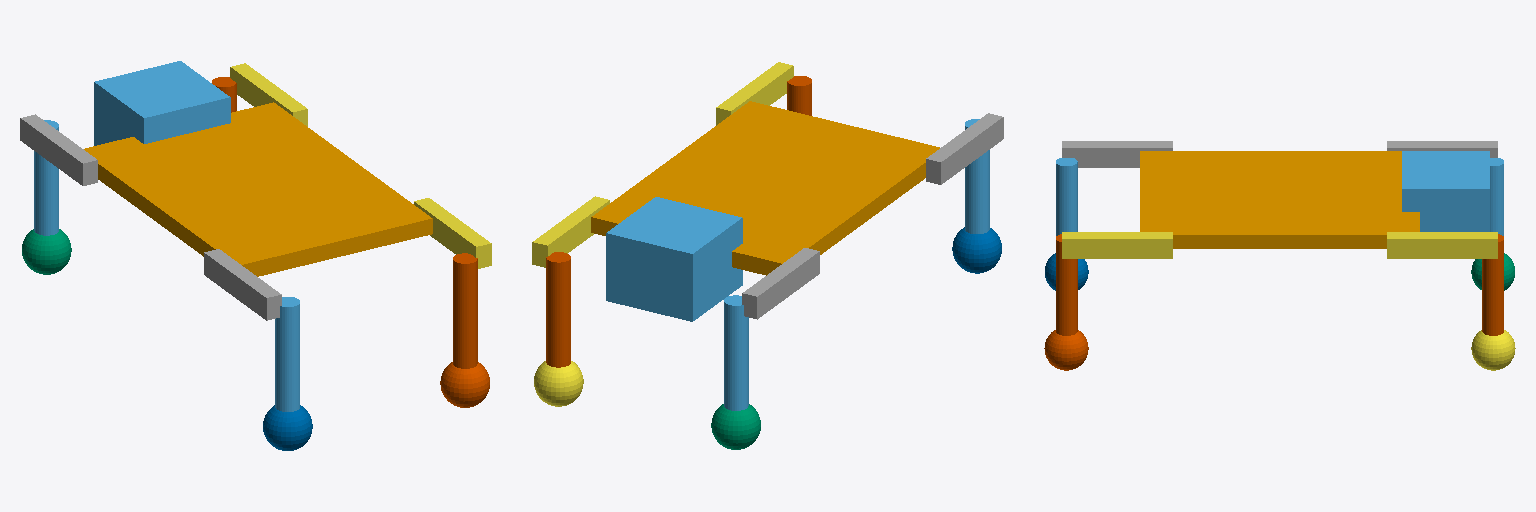
The robot description file, URDF, robot "bittle":
<robot name="bittle">
	<link name="torso">
		<inertial>
			<origin rpy="0.00000 -0.00000 0.00000" xyz="0.00000 0.00000 0.00000"/>
			<mass value="20.00000"/>
			<inertia ixx="0.02696" ixy="0" ixz="0" iyy="0.01358" iyz="0" izz="0.04038"/>
		</inertial>
		<visual>
			<origin rpy="0.00000 -0.00000 0.00000" xyz="0.00000 0.00000 0.00000"/>
			<geometry>
				<box size="0.09000 0.12700 0.00700"/>
			</geometry>
		</visual>
		<collision>
			<origin rpy="0.00000 -0.00000 0.00000" xyz="0.00000 0.00000 0.00000"/>
			<geometry>
				<box size="0.09000 0.12700 0.00700"/>
			</geometry>
		</collision>
	</link>
	
	<link name="head">
		<inertial>
			<origin rpy="0.00000 0.00000 0.00000" xyz="0.00000 0.00000 0.00000"/>
			<mass value="0.10000"/>
			<inertia ixx="0.00010" ixy="0" ixz="0" iyy="0.00010" iyz="0" izz="0.00010"/>
		</inertial>
		<visual>
			<origin rpy="0.00000 0.00000 0.00000" xyz="0.00000 0.00000 0.00000"/>
			<geometry>
				<box size="0.04000 0.04000 0.03000"/>
			</geometry>
		</visual>
		<collision>
			<origin rpy="0.00000 0.00000 0.00000" xyz="0.00000 0.00000 0.00000"/>
			<geometry>
				<box size="0.04000 0.04000 0.03000"/>
			</geometry>
		</collision>
	</link>

	<link name="lf_foot"><visual><geometry><sphere radius="0.01"/></geometry></visual></link>
	<link name="rf_foot"><visual><geometry><sphere radius="0.01"/></geometry></visual></link>
	<link name="lb_foot"><visual><geometry><sphere radius="0.01"/></geometry></visual></link>
	<link name="rb_foot"><visual><geometry><sphere radius="0.01"/></geometry></visual></link>

	<link name="link1_2">
		<inertial>
			<origin rpy="0.00000 -0.00000 0.00000" xyz="0.00000 0.00000 0.00000"/>
			<mass value="0.00000"/>
			<inertia ixx="0.00000" ixy="0" ixz="0" iyy="0.00000" iyz="0" izz="0.00000"/>
		</inertial>
	</link>
	<link name="lfs">
		<inertial>
			<origin rpy="0.00000 -0.00000 0.00000" xyz="0.00000 0.00000 0.00000"/>
			<mass value="0.60000"/>
			<inertia ixx="0.00013" ixy="0" ixz="0" iyy="0.00001" iyz="0" izz="0.00013"/>
		</inertial>
		<visual>
			<origin rpy="0.00000 -0.00000 0.00000" xyz="0.00000 0.00000 0.00000"/>
			<geometry>
				<box size="0.00700 0.05000 0.01000"/>
			</geometry>
		</visual>
		<collision>
			<origin rpy="0.00000 -0.00000 0.00000" xyz="0.00000 0.00000 0.00000"/>
			<geometry>
				<box size="0.00700 0.05000 0.01000"/>
			</geometry>
		</collision>
	</link>
	<link name="link1_4">
		<inertial>
			<origin rpy="0.00000 -0.00000 0.00000" xyz="0.00000 0.00000 0.00000"/>
			<mass value="0.00000"/>
			<inertia ixx="0.00000" ixy="0" ixz="0" iyy="0.00000" iyz="0" izz="0.00000"/>
		</inertial>
	</link>
	<link name="lfk">
		<inertial>
			<origin rpy="0.00000 -0.00000 0.00000" xyz="0.00000 0.00000 0.00000"/>
			<mass value="1.70000"/>
			<inertia ixx="0.00061" ixy="0" ixz="0" iyy="0.00061" iyz="0" izz="0.00003"/>
		</inertial>
		<visual>
			<origin rpy="0.00000 0.00000 0.00000" xyz="0.00000 0.00000 -0.02750"/>
			<geometry>
				<cylinder length="0.05500" radius="0.00500"/>
			</geometry>
		</visual>
		<collision>
			<origin rpy="0.00000 0.00000 0.00000" xyz="0.00000 0.00000 -0.02750"/>
			<geometry>
				<cylinder length="0.05500" radius="0.00500"/>
			</geometry>
		</collision>
	</link>
	<link name="link1_6">
		<inertial>
			<origin rpy="0.00000 -0.00000 0.00000" xyz="0.00000 0.00000 0.00000"/>
			<mass value="0.00000"/>
			<inertia ixx="0.00000" ixy="0" ixz="0" iyy="0.00000" iyz="0" izz="0.00000"/>
		</inertial>
	</link>
	<link name="rfs">
		<inertial>
			<origin rpy="0.00000 -0.00000 0.00000" xyz="0.00000 0.00000 0.00000"/>
			<mass value="0.60000"/>
			<inertia ixx="0.00013" ixy="0" ixz="0" iyy="0.00001" iyz="0" izz="0.00013"/>
		</inertial>
		<visual>
			<origin rpy="0.00000 -0.00000 0.00000" xyz="0.00000 0.00000 0.00000"/>
			<geometry>
				<box size="0.00700 0.05000 0.01000"/>
			</geometry>
		</visual>
		<collision>
			<origin rpy="0.00000 -0.00000 0.00000" xyz="0.00000 0.00000 0.00000"/>
			<geometry>
				<box size="0.00700 0.05000 0.01000"/>
			</geometry>
		</collision>
	</link>
	<link name="link1_8">
		<inertial>
			<origin rpy="0.00000 -0.00000 0.00000" xyz="0.00000 0.00000 0.00000"/>
			<mass value="0.00000"/>
			<inertia ixx="0.00000" ixy="0" ixz="0" iyy="0.00000" iyz="0" izz="0.00000"/>
		</inertial>
	</link>
	<link name="rfk">
		<inertial>
			<origin rpy="0.00000 -0.00000 0.00000" xyz="0.00000 0.00000 0.00000"/>
			<mass value="1.70000"/>
			<inertia ixx="0.00061" ixy="0" ixz="0" iyy="0.00061" iyz="0" izz="0.00003"/>
		</inertial>
		<visual>
			<origin rpy="0.00000 0.00000 0.00000" xyz="0.00000 0.00000 -0.02750"/>
			<geometry>
				<cylinder length="0.05500" radius="0.00500"/>
			</geometry>
		</visual>
		<collision>
			<origin rpy="0.00000 0.00000 0.00000" xyz="0.00000 0.00000 -0.02750"/>
			<geometry>
				<cylinder length="0.05500" radius="0.00500"/>
			</geometry>
		</collision>
	</link>
	<link name="link1_10">
		<inertial>
			<origin rpy="0.00000 -0.00000 0.00000" xyz="0.00000 0.00000 0.00000"/>
			<mass value="0.00000"/>
			<inertia ixx="0.00000" ixy="0" ixz="0" iyy="0.00000" iyz="0" izz="0.00000"/>
		</inertial>
	</link>
	<link name="lbs">
		<inertial>
			<origin rpy="0.00000 -0.00000 0.00000" xyz="0.00000 0.00000 0.00000"/>
			<mass value="0.60000"/>
			<inertia ixx="0.00013" ixy="0" ixz="0" iyy="0.00001" iyz="0" izz="0.00013"/>
		</inertial>
		<visual>
			<origin rpy="0.00000 -0.00000 0.00000" xyz="0.00000 0.00000 0.00000"/>
			<geometry>
				<box size="0.00700 0.05000 0.01000"/>
			</geometry>
		</visual>
		<collision>
			<origin rpy="0.00000 -0.00000 0.00000" xyz="0.00000 0.00000 0.00000"/>
			<geometry>
				<box size="0.00700 0.05000 0.01000"/>
			</geometry>
		</collision>
	</link>
	<link name="link1_12">
		<inertial>
			<origin rpy="0.00000 -0.00000 0.00000" xyz="0.00000 0.00000 0.00000"/>
			<mass value="0.00000"/>
			<inertia ixx="0.00000" ixy="0" ixz="0" iyy="0.00000" iyz="0" izz="0.00000"/>
		</inertial>
	</link>
	<link name="lbk">
		<inertial>
			<origin rpy="0.00000 -0.00000 0.00000" xyz="0.00000 0.00000 0.00000"/>
			<mass value="1.70000"/>
			<inertia ixx="0.00061" ixy="0" ixz="0" iyy="0.00061" iyz="0" izz="0.00003"/>
		</inertial>
		<visual>
			<origin rpy="0.00000 0.00000 0.00000" xyz="0.00000 0.00000 -0.02750"/>
			<geometry>
				<cylinder length="0.05500" radius="0.00500"/>
			</geometry>
		</visual>
		<collision>
			<origin rpy="0.00000 0.00000 0.00000" xyz="0.00000 0.00000 -0.02750"/>
			<geometry>
				<cylinder length="0.05500" radius="0.00500"/>
			</geometry>
		</collision>
	</link>
	<link name="link1_14">
		<inertial>
			<origin rpy="0.00000 -0.00000 0.00000" xyz="0.00000 0.00000 0.00000"/>
			<mass value="0.00000"/>
			<inertia ixx="0.00000" ixy="0" ixz="0" iyy="0.00000" iyz="0" izz="0.00000"/>
		</inertial>
	</link>
	<link name="rbs">
		<inertial>
			<origin rpy="0.00000 -0.00000 0.00000" xyz="0.00000 0.00000 0.00000"/>
			<mass value="0.60000"/>
			<inertia ixx="0.00013" ixy="0" ixz="0" iyy="0.00001" iyz="0" izz="0.00013"/>
		</inertial>
		<visual>
			<origin rpy="0.00000 -0.00000 0.00000" xyz="0.00000 0.00000 0.00000"/>
			<geometry>
				<box size="0.00700 0.05000 0.01000"/>
			</geometry>
		</visual>
		<collision>
			<origin rpy="0.00000 -0.00000 0.00000" xyz="0.00000 0.00000 0.00000"/>
			<geometry>
				<box size="0.00700 0.05000 0.01000"/>
			</geometry>
		</collision>
	</link>
	<link name="link1_16">
		<inertial>
			<origin rpy="0.00000 -0.00000 0.00000" xyz="0.00000 0.00000 0.00000"/>
			<mass value="0.00000"/>
			<inertia ixx="0.00000" ixy="0" ixz="0" iyy="0.00000" iyz="0" izz="0.00000"/>
		</inertial>
	</link>
	<link name="rbk">
		<inertial>
			<origin rpy="0.00000 -0.00000 0.00000" xyz="0.00000 0.00000 0.00000"/>
			<mass value="1.70000"/>
			<inertia ixx="0.00061" ixy="0" ixz="0" iyy="0.00061" iyz="0" izz="0.00003"/>
		</inertial>
		<visual>
			<origin rpy="0.00000 0.00000 0.00000" xyz="0.00000 0.00000 -0.02750"/>
			<geometry>
				<cylinder length="0.05500" radius="0.00500"/>
			</geometry>
		</visual>
		<collision>
			<origin rpy="0.00000 0.00000 0.00000" xyz="0.00000 0.00000 -0.02750"/>
			<geometry>
				<cylinder length="0.05500" radius="0.00500"/>
			</geometry>
		</collision>
	</link>

	<joint name="neck_joint" type="revolute">
		<parent link="torso"/>
		<child link="head"/>
		<origin rpy="0.00000 0.00000 0.00000" xyz="0.00000 0.07500 0.00000"/>
		<axis xyz="0 0 1"/>
		<limit lower="-2.18" upper="2.18" effort="10" velocity="1"/>
	</joint>

	<joint name="lfsj" type="continuous">
		<parent link="torso"/>
		<child link="link1_2"/>
		<dynamics damping="1.0" friction="0.0001"/>
		<origin rpy="0.00000 -0.00000 0.00000" xyz="-0.04850 0.05050 0.00000"/>
		<axis xyz="1.00000 0.00000 0.00000"/>
	</joint>
	<joint name="jointfix_1_2" type="fixed">
		<parent link="link1_2"/>
		<child link="lfs"/>
		<dynamics damping="1.0" friction="0.0001"/>
		<origin rpy="0.00000 -0.00000 0.00000" xyz="0.00000 0.02300 0.00000"/>
		<axis xyz="0.00000 0.00000 0.00000"/>
	</joint>
	<joint name="lfkj" type="continuous">
		<parent link="lfs"/>
		<child link="link1_4"/>
		<dynamics damping="1.0" friction="0.0001"/>
		<origin rpy="0.00000 -0.00000 0.00000" xyz="0.00750 0.02300 0.00000"/>
		<axis xyz="1.00000 0.00000 0.00000"/>
	</joint>
	<joint name="jointfix_0_4" type="fixed">
		<parent link="link1_4"/>
		<child link="lfk"/>
		<dynamics damping="1.0" friction="0.0001"/>
		<origin rpy="0.00000 -0.00000 0.00000" xyz="0.00000 0.00000 0.00000"/>
		<axis xyz="0.00000 0.00000 0.00000"/>
	</joint>
	
	<joint name="lf_foot_joint" type="fixed">
		<parent link="lfk"/>
		<child link="lf_foot"/>
		<origin rpy="0.00000 0.00000 0.00000" xyz="0.00000 0.00000 -0.05500"/>
	</joint>

	<joint name="rfsj" type="continuous">
		<parent link="torso"/>
		<child link="link1_6"/>
		<dynamics damping="1.0" friction="0.0001"/>
		<origin rpy="0.00000 -0.00000 0.00000" xyz="0.04850 0.05050 0.00000"/>
		<axis xyz="1.00000 0.00000 0.00000"/>
	</joint>
	<joint name="jointfix_3_6" type="fixed">
		<parent link="link1_6"/>
		<child link="rfs"/>
		<dynamics damping="1.0" friction="0.0001"/>
		<origin rpy="0.00000 -0.00000 0.00000" xyz="0.00000 0.02300 0.00000"/>
		<axis xyz="0.00000 0.00000 0.00000"/>
	</joint>
	<joint name="rfkj" type="continuous">
		<parent link="rfs"/>
		<child link="link1_8"/>
		<dynamics damping="1.0" friction="0.0001"/>
		<origin rpy="0.00000 -0.00000 0.00000" xyz="-0.00750 0.02300 0.00000"/>
		<axis xyz="1.00000 0.00000 0.00000"/>
	</joint>
	<joint name="jointfix_2_8" type="fixed">
		<parent link="link1_8"/>
		<child link="rfk"/>
		<dynamics damping="1.0" friction="0.0001"/>
		<origin rpy="0.00000 -0.00000 0.00000" xyz="0.00000 0.00000 0.00000"/>
		<axis xyz="0.00000 0.00000 0.00000"/>
	</joint>
	
	<joint name="rf_foot_joint" type="fixed">
		<parent link="rfk"/>
		<child link="rf_foot"/>
		<origin rpy="0.00000 0.00000 0.00000" xyz="0.00000 0.00000 -0.05500"/>
	</joint>

	<joint name="lbsj" type="continuous">
		<parent link="torso"/>
		<child link="link1_10"/>
		<dynamics damping="1.0" friction="0.0001"/>
		<origin rpy="0.00000 -0.00000 0.00000" xyz="-0.04850 -0.05050 0.00000"/>
		<axis xyz="1.00000 0.00000 0.00000"/>
	</joint>
	<joint name="jointfix_5_10" type="fixed">
		<parent link="link1_10"/>
		<child link="lbs"/>
		<dynamics damping="1.0" friction="0.0001"/>
		<origin rpy="0.00000 -0.00000 0.00000" xyz="0.00000 -0.02300 0.00000"/>
		<axis xyz="0.00000 0.00000 0.00000"/>
	</joint>
	<joint name="lbkj" type="continuous">
		<parent link="lbs"/>
		<child link="link1_12"/>
		<dynamics damping="1.0" friction="0.0001"/>
		<origin rpy="0.00000 -0.00000 0.00000" xyz="0.00750 -0.02300 0.00000"/>
		<axis xyz="1.00000 0.00000 0.00000"/>
	</joint>
	<joint name="jointfix_4_12" type="fixed">
		<parent link="link1_12"/>
		<child link="lbk"/>
		<dynamics damping="1.0" friction="0.0001"/>
		<origin rpy="0.00000 -0.00000 0.00000" xyz="0.00000 0.00000 0.00000"/>
		<axis xyz="0.00000 0.00000 0.00000"/>
	</joint>
	
	<joint name="lb_foot_joint" type="fixed">
		<parent link="lbk"/>
		<child link="lb_foot"/>
		<origin rpy="0.00000 0.00000 0.00000" xyz="0.00000 0.00000 -0.05500"/>
	</joint>

	<joint name="rbsj" type="continuous">
		<parent link="torso"/>
		<child link="link1_14"/>
		<dynamics damping="1.0" friction="0.0001"/>
		<origin rpy="0.00000 -0.00000 0.00000" xyz="0.04850 -0.05050 0.00000"/>
		<axis xyz="1.00000 0.00000 0.00000"/>
	</joint>
	<joint name="jointfix_7_14" type="fixed">
		<parent link="link1_14"/>
		<child link="rbs"/>
		<dynamics damping="1.0" friction="0.0001"/>
		<origin rpy="0.00000 -0.00000 0.00000" xyz="0.00000 -0.02300 0.00000"/>
		<axis xyz="0.00000 0.00000 0.00000"/>
	</joint>
	<joint name="rbkj" type="continuous">
		<parent link="rbs"/>
		<child link="link1_16"/>
		<dynamics damping="1.0" friction="0.0001"/>
		<origin rpy="0.00000 -0.00000 0.00000" xyz="-0.00750 -0.02300 0.00000"/>
		<axis xyz="1.00000 0.00000 0.00000"/>
	</joint>
	<joint name="jointfix_6_16" type="fixed">
		<parent link="link1_16"/>
		<child link="rbk"/>
		<dynamics damping="1.0" friction="0.0001"/>
		<origin rpy="0.00000 -0.00000 0.00000" xyz="0.00000 0.00000 0.00000"/>
		<axis xyz="0.00000 0.00000 0.00000"/>
	</joint>
	
	<joint name="rb_foot_joint" type="fixed">
		<parent link="rbk"/>
		<child link="rb_foot"/>
		<origin rpy="0.00000 0.00000 0.00000" xyz="0.00000 0.00000 -0.05500"/>
	</joint>
</robot>

--- Facts derived from the render (not from the file) ---
3 views of the same robot in one strip: view 1: azimuth 30°, elevation 25°; view 2: azimuth 150°, elevation 25°; view 3: azimuth 270°, elevation 25° (orthographic).
Robot: bittle — 22 links, 21 joints (1 revolute, 8 continuous, 12 fixed); root link torso; default pose: every joint at zero.
Visible links, largest first — view 1: torso, head, rbk, lbk, lfs, lbs, rbs, lfk, rfs, rb_foot, lf_foot, lb_foot; view 2: torso, head, rfk, lfk, lbs, lfs, rfs, lbk, rbs, lb_foot, rf_foot, lf_foot (+1 smaller); view 3: torso, head, rfs, rbs, lbs, rfk, rbk, lbk, rf_foot, rb_foot, lfs, lfk (+2 smaller).
Boxes of the visible links, left/top/right/bottom form: torso: left=84, top=102, right=432, bottom=276; head: left=94, top=61, right=230, bottom=145; rbk: left=453, top=253, right=477, bottom=368; lbk: left=275, top=297, right=299, bottom=411; lfs: left=20, top=114, right=97, bottom=185; lbs: left=204, top=249, right=281, bottom=320; rbs: left=414, top=198, right=491, bottom=268; lfk: left=34, top=120, right=58, bottom=235; rfs: left=230, top=63, right=307, bottom=126; rb_foot: left=440, top=362, right=489, bottom=407; lf_foot: left=22, top=229, right=71, bottom=274; lb_foot: left=263, top=405, right=312, bottom=450; torso: left=591, top=101, right=939, bottom=275; head: left=606, top=197, right=742, bottom=321; rfk: left=546, top=252, right=570, bottom=367; lfk: left=724, top=295, right=748, bottom=410; lbs: left=926, top=113, right=1003, bottom=184; lfs: left=742, top=248, right=819, bottom=319; rfs: left=532, top=196, right=609, bottom=267; lbk: left=965, top=119, right=989, bottom=233; rbs: left=716, top=62, right=793, bottom=125; lb_foot: left=952, top=227, right=1001, bottom=273; rf_foot: left=534, top=361, right=583, bottom=406; lf_foot: left=711, top=404, right=760, bottom=449; torso: left=1140, top=151, right=1419, bottom=248; head: left=1402, top=151, right=1489, bottom=231; rfs: left=1387, top=232, right=1497, bottom=258; rbs: left=1062, top=232, right=1172, bottom=258; lbs: left=1062, top=141, right=1172, bottom=167; rfk: left=1482, top=234, right=1503, bottom=335; rbk: left=1056, top=234, right=1077, bottom=335; lbk: left=1056, top=158, right=1077, bottom=235; rf_foot: left=1471, top=330, right=1515, bottom=370; rb_foot: left=1044, top=330, right=1088, bottom=370; lfs: left=1387, top=141, right=1497, bottom=157; lfk: left=1490, top=158, right=1503, bottom=235.
Bounding box of the posed robot: 0.104 × 0.213 × 0.08 m (x, y, z).
Geometry: primitives only (box / cylinder / sphere), no mesh files.
